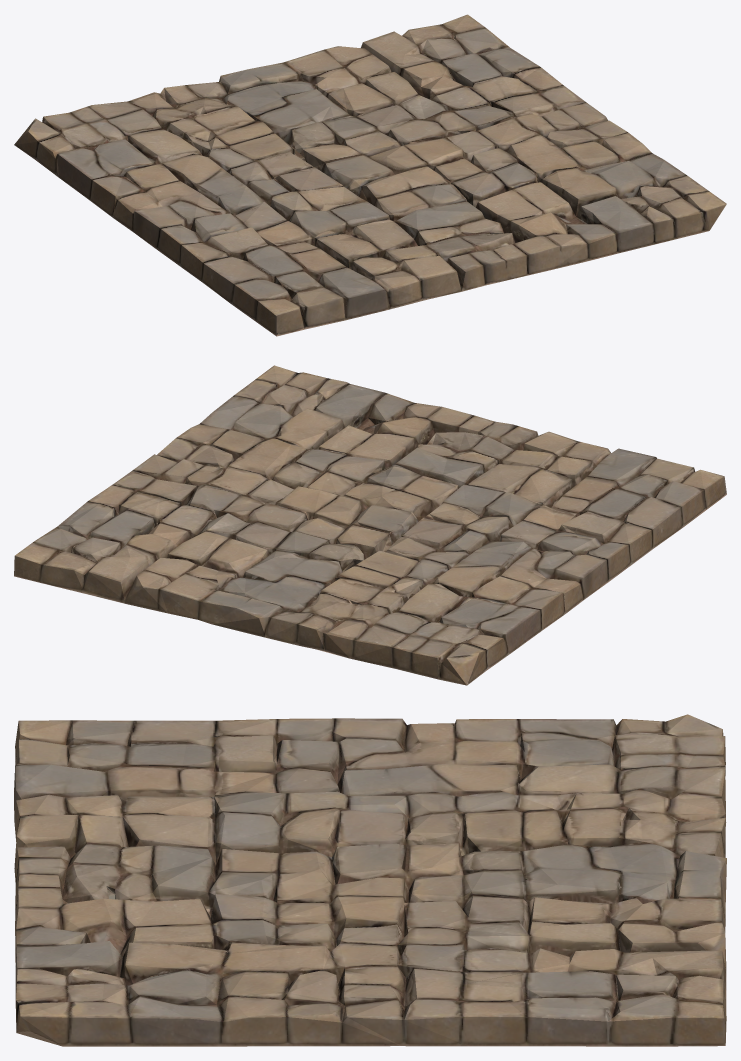
The model's file is gnd_cobble.glb.
3 renders of one model, top to bottom at view 1: azimuth 30°, elevation 25°; view 2: azimuth 150°, elevation 25°; view 3: azimuth 270°, elevation 25°, orthographic. The views are drawn at different scales.
Visible parts, largest first — view 1: Cobblestone; view 2: Cobblestone; view 3: Cobblestone.
Part boxes in pixels (left/top/right/bottom): Cobblestone: left=14, top=14, right=726, bottom=336; Cobblestone: left=14, top=365, right=726, bottom=685; Cobblestone: left=14, top=714, right=726, bottom=1046.
Size of the model in its own units: 2 by 0.1037 by 2.01.
Materials: 1 (1 with a texture image).
